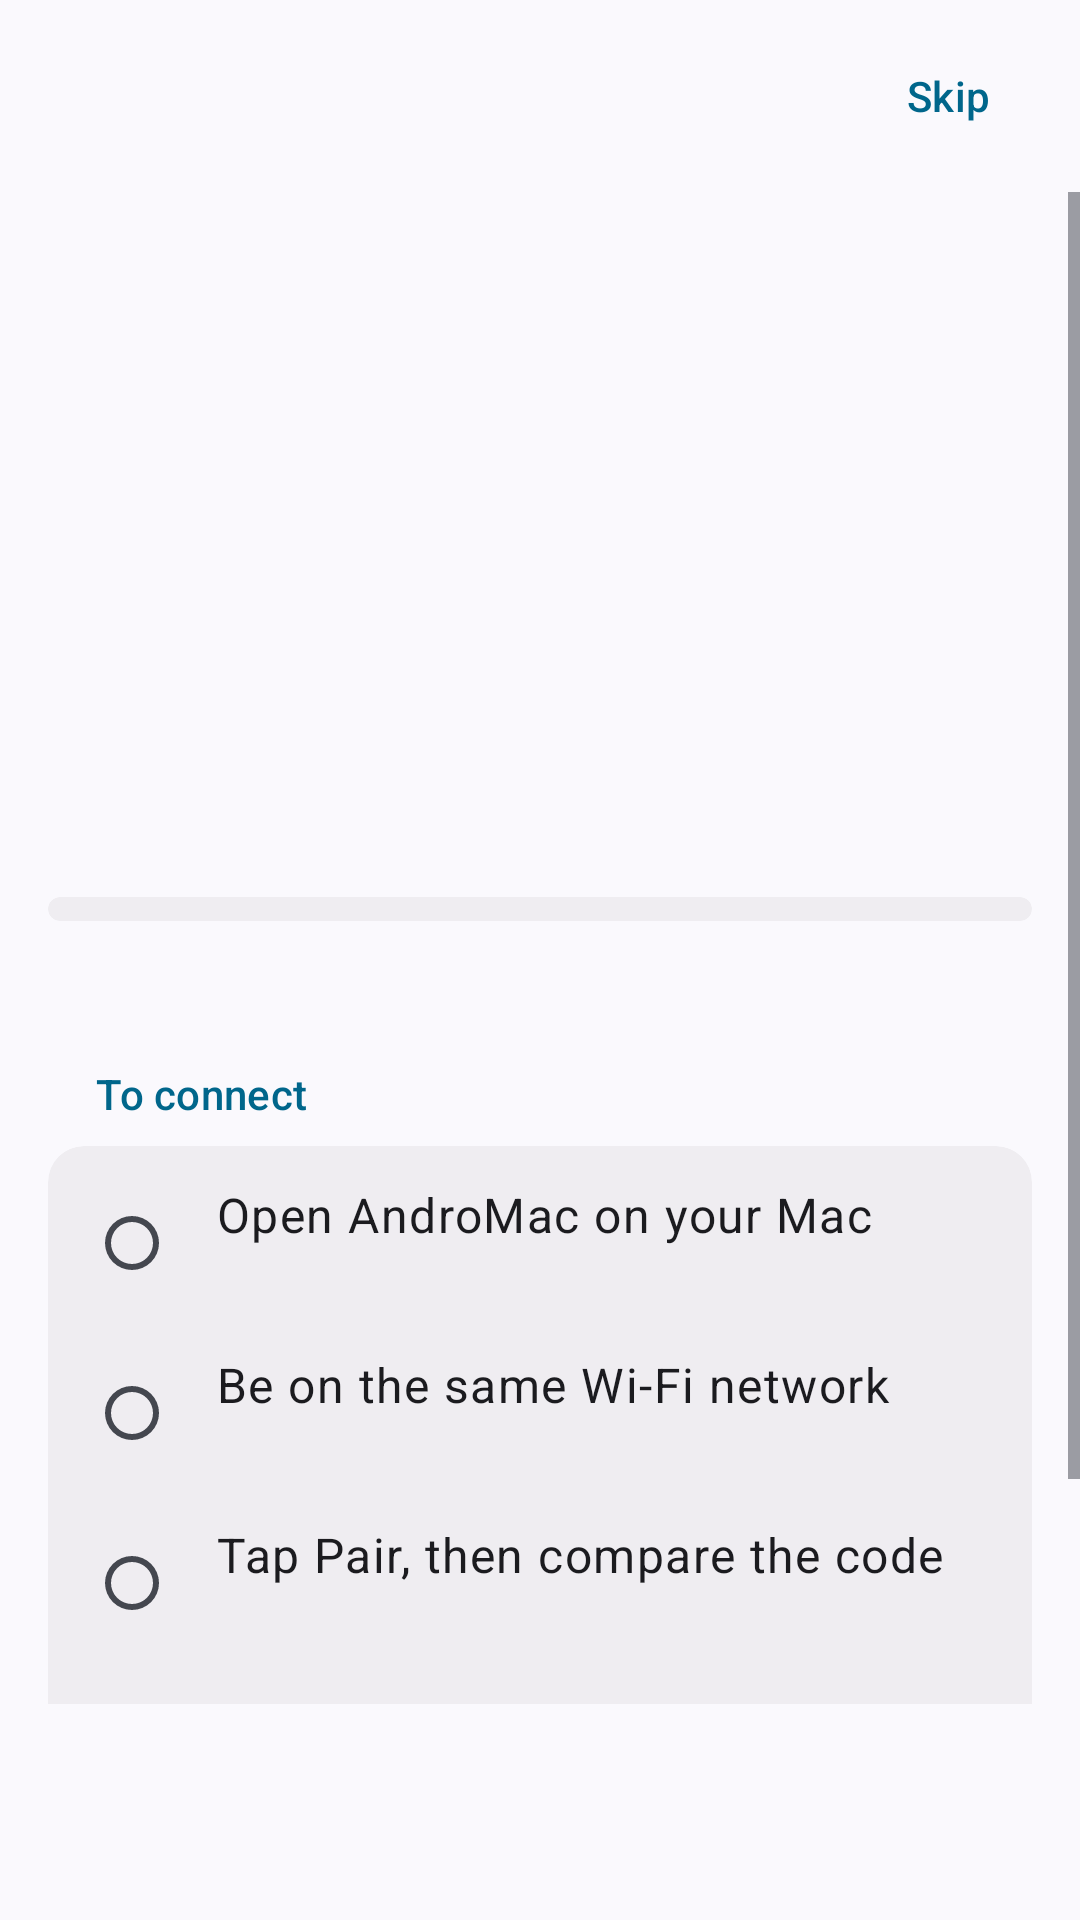

Where to tap for icons on this 1080px x 1920px app screen, as (x=x, y=y):
step pending: (x=132, y=1243), (x=132, y=1413), (x=132, y=1583)
